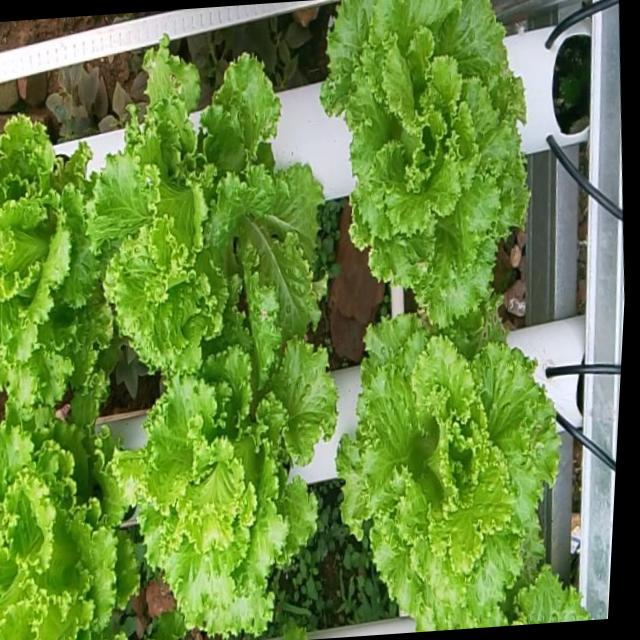Mature: (89, 18, 323, 378), (335, 311, 572, 632), (320, 0, 529, 330), (113, 339, 337, 640), (0, 393, 137, 640), (0, 116, 111, 408)
